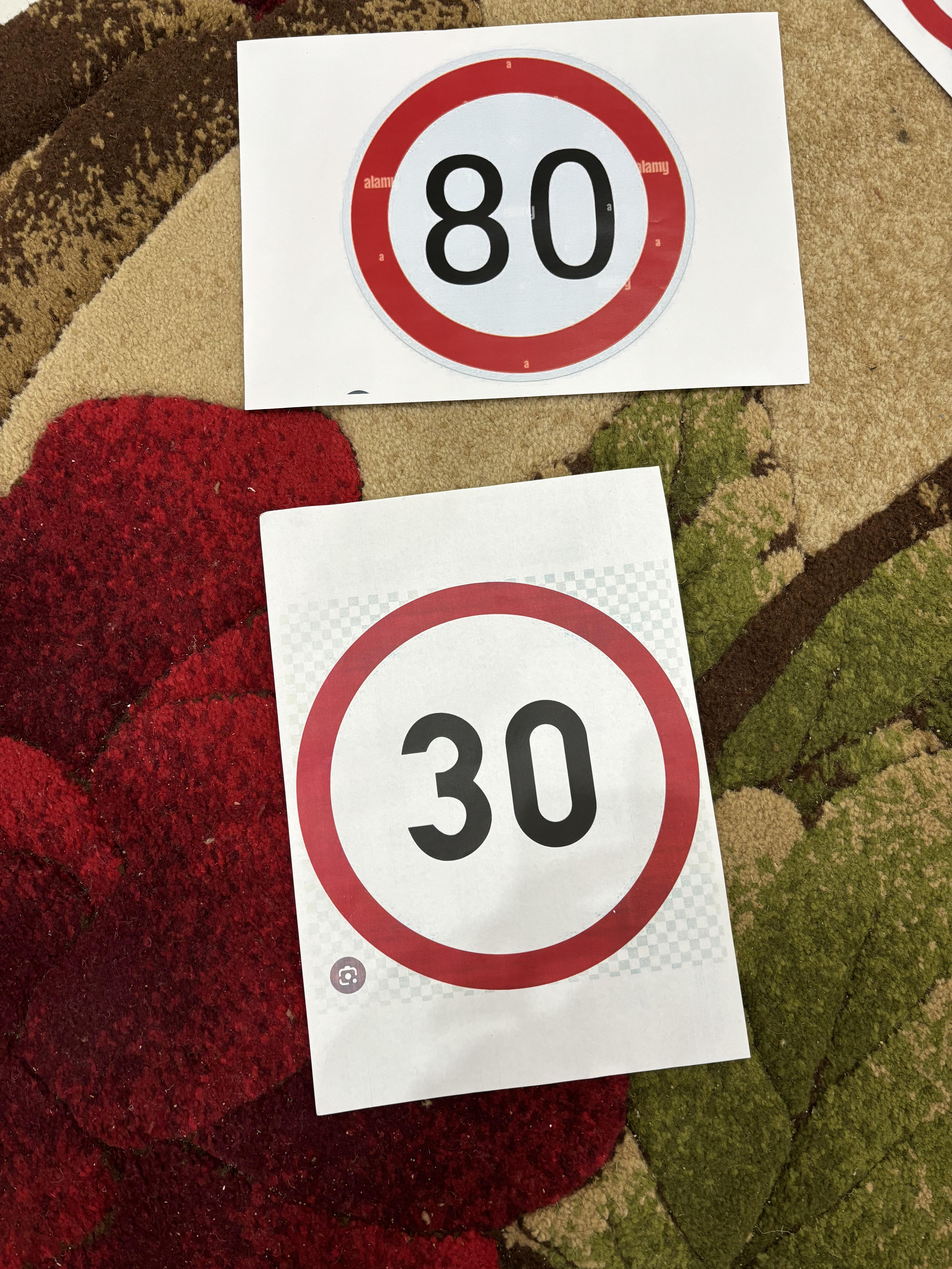30-speed: (294, 574, 698, 995)
80-Speed: (344, 56, 698, 383)
